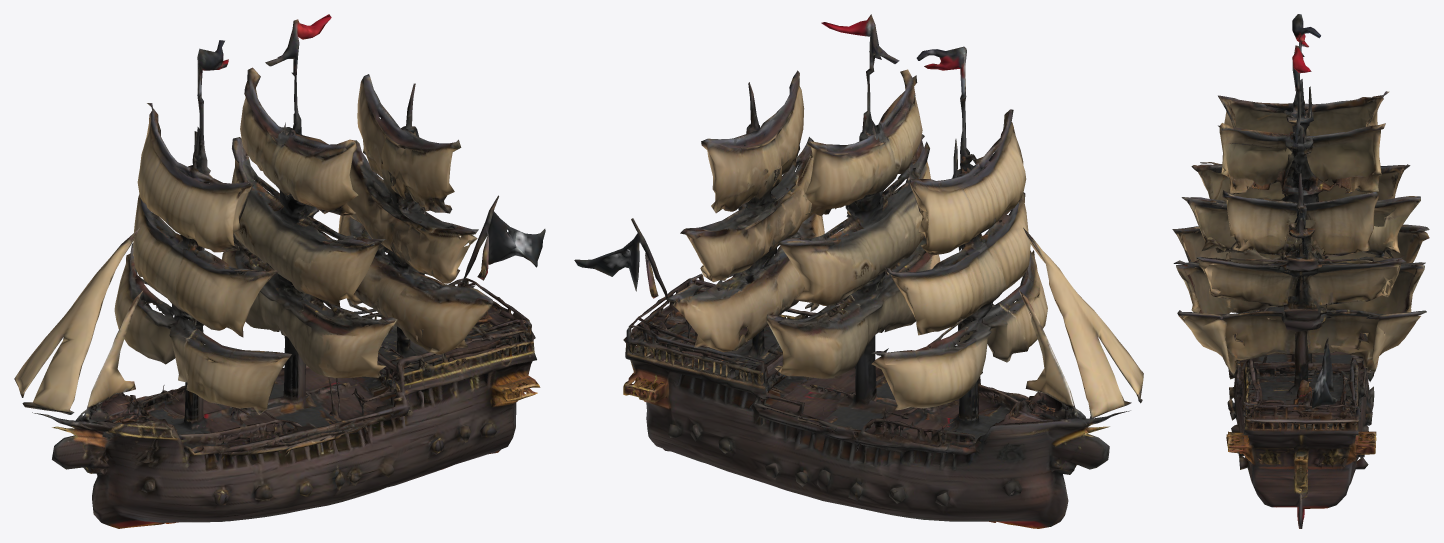
Rendered from dreadnaught.glb.
3 views of the same model, side by side, from view 1: azimuth 30°, elevation 25°; view 2: azimuth 150°, elevation 25°; view 3: azimuth 270°, elevation 25° (orthographic). The views are drawn at different scales.
Size of the model in its own units: 1.97 by 1.67 by 0.9723.
1 material, 1 textured.
